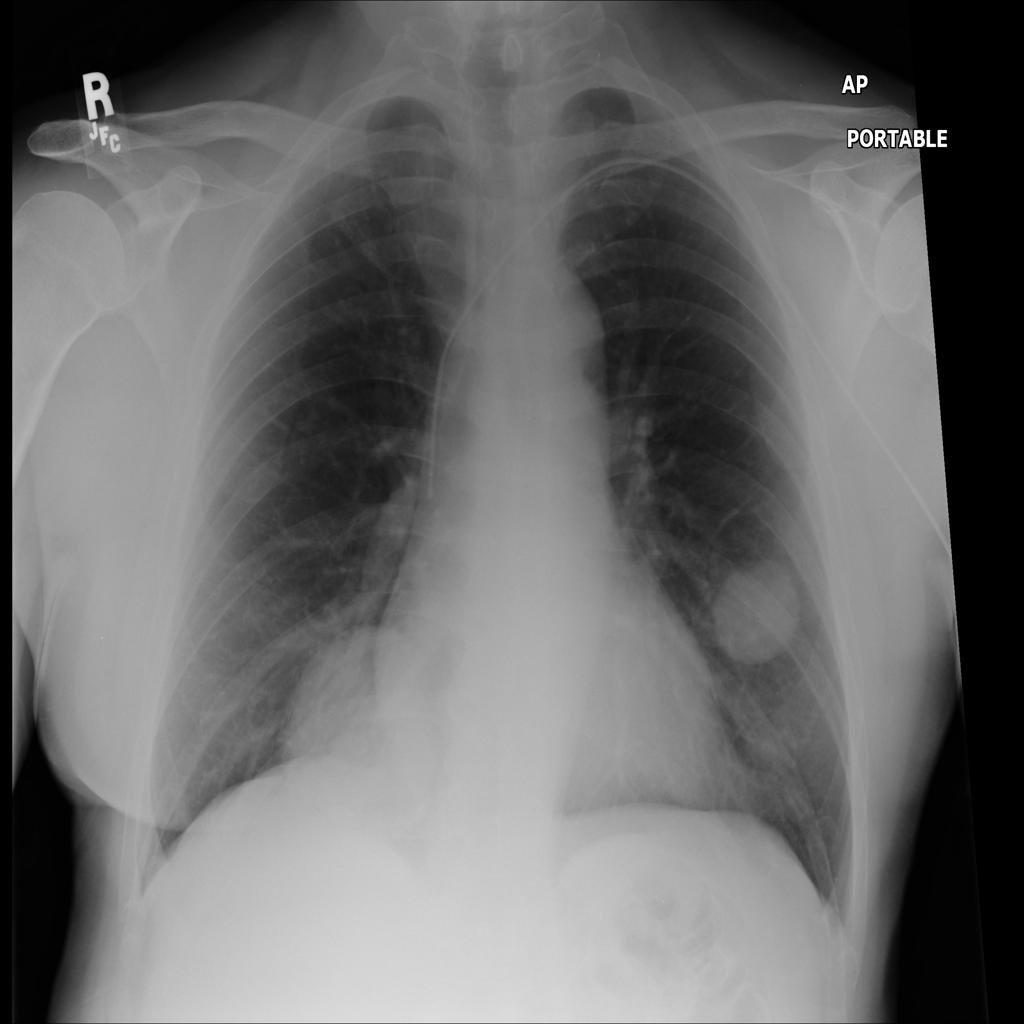nodule: (290, 624, 437, 822), (696, 537, 818, 680)
